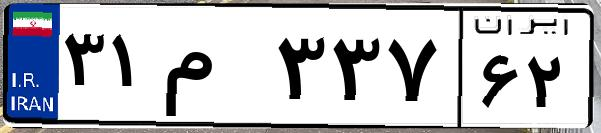1: (110, 28, 158, 98)
2: (525, 38, 570, 115)
3: (270, 28, 330, 110), (330, 28, 385, 110), (57, 26, 110, 100)
6: (475, 38, 525, 113)
7: (385, 28, 445, 110)
م: (158, 20, 270, 120)
